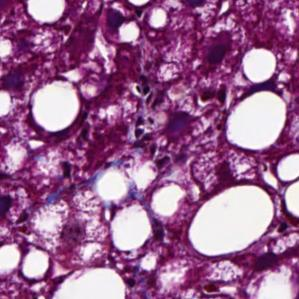inflammation: (127, 80, 158, 140), (191, 77, 236, 114)
